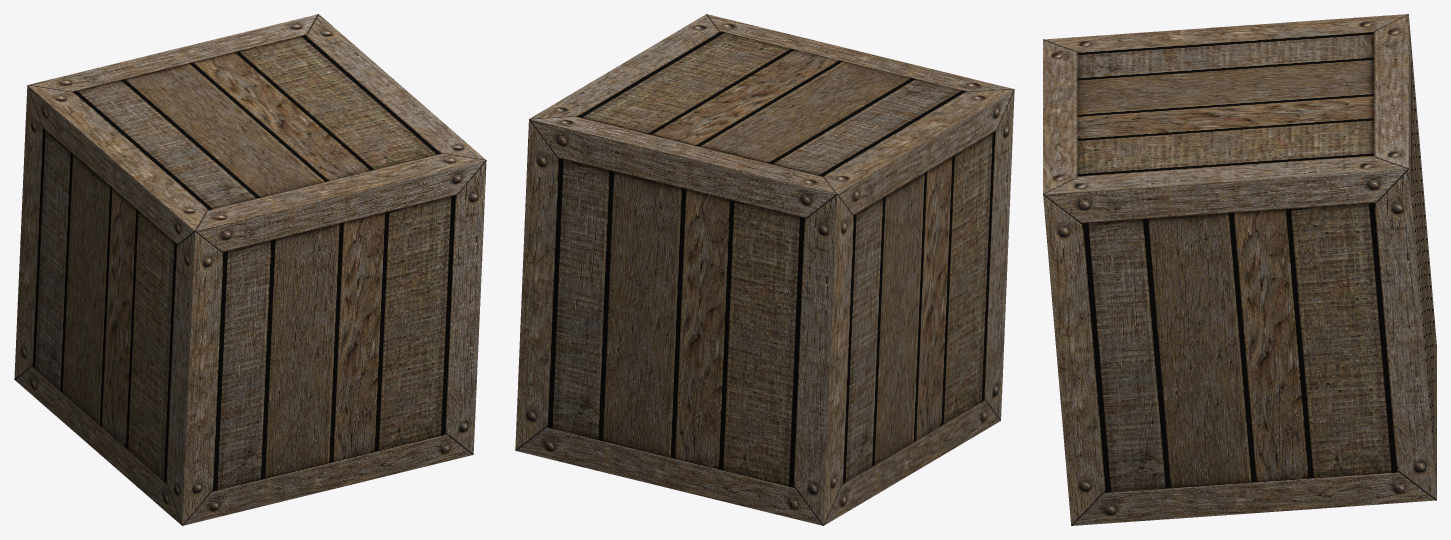
The model's file is mm9_deco_cratep356.glb.
3 views of the same model, side by side, from view 1: azimuth 30°, elevation 25°; view 2: azimuth 150°, elevation 25°; view 3: azimuth 270°, elevation 25° (orthographic). The views are drawn at different scales.
Visible parts, largest first — view 1: Cratep356; view 2: Cratep356; view 3: Cratep356.
Part boxes in pixels (left/top/right/bottom): Cratep356: left=14, top=14, right=486, bottom=525; Cratep356: left=515, top=14, right=1014, bottom=525; Cratep356: left=1043, top=14, right=1436, bottom=525.
Size of the model in its own units: 1.5 by 1.61 by 1.61.
Materials: 1 (1 with a texture image).
